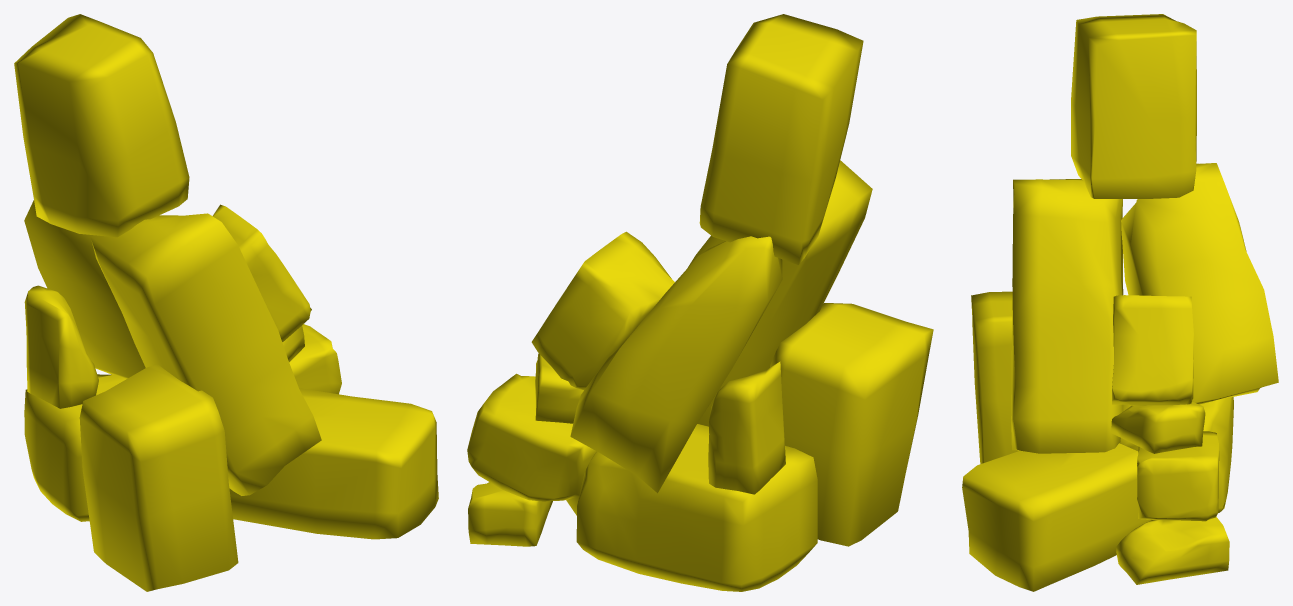
The model's file is Block_Pile_03_Lod0.fbx.
3 renders of one model, left to right at view 1: azimuth 30°, elevation 25°; view 2: azimuth 150°, elevation 25°; view 3: azimuth 270°, elevation 25°, orthographic. The views are drawn at different scales.
Visible parts, largest first — view 1: Block_Pile_03_Lod0; view 2: Block_Pile_03_Lod0; view 3: Block_Pile_03_Lod0.
Boxes of the visible parts, x1=… form: Block_Pile_03_Lod0: x1=14, y1=14, x2=438, y2=591; Block_Pile_03_Lod0: x1=467, y1=14, x2=933, y2=591; Block_Pile_03_Lod0: x1=962, y1=14, x2=1278, y2=591.
Size of the model in its own units: 2030 by 2724 by 1762.
